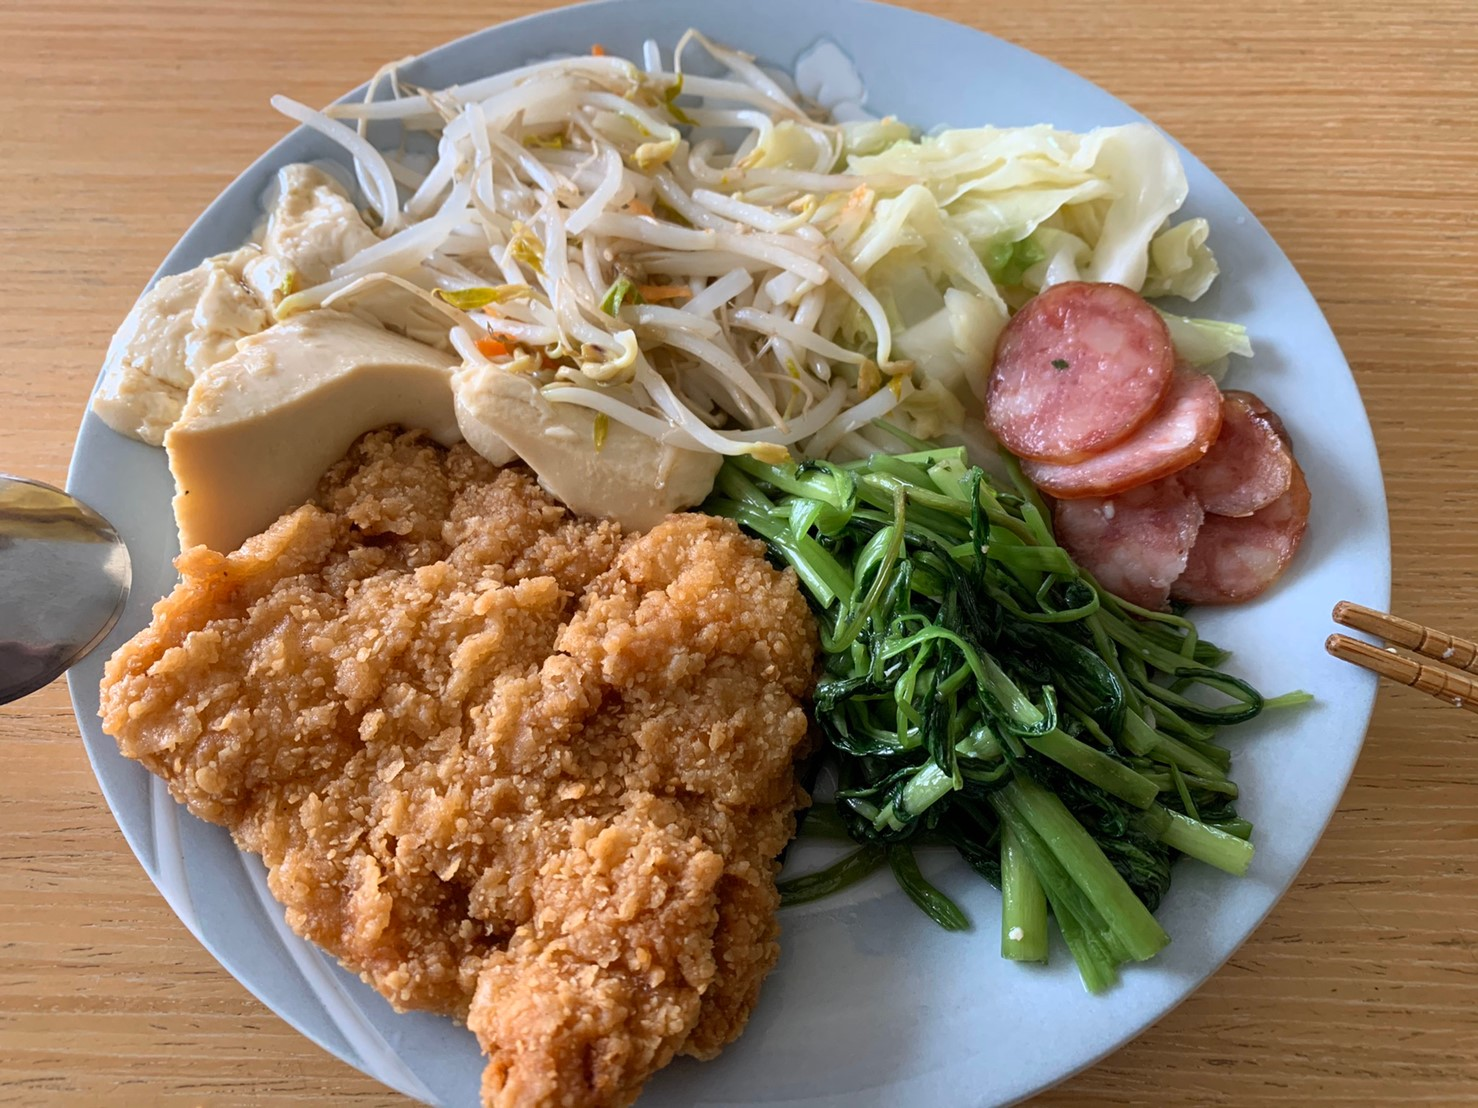chinese_cabbage: (838, 119, 1193, 287)
chinese_sausage: (980, 290, 1326, 615)
fried_chicken: (149, 442, 820, 1051)
mung_bean_sprouts: (502, 112, 838, 402)
water_spinach: (820, 460, 1239, 1001)
